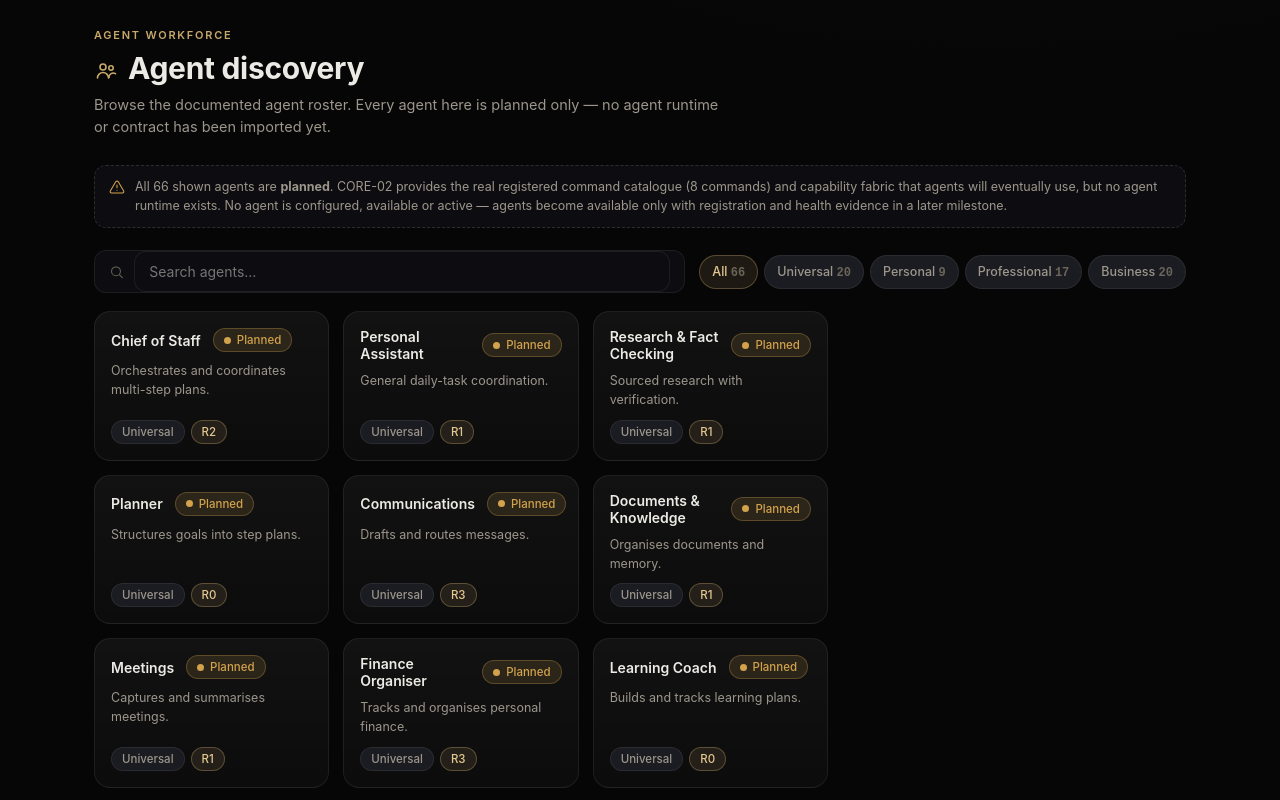
Test: Agent Workforce › filters by category
Click the button "Personal 9": [914, 272] box [870, 255, 959, 289]
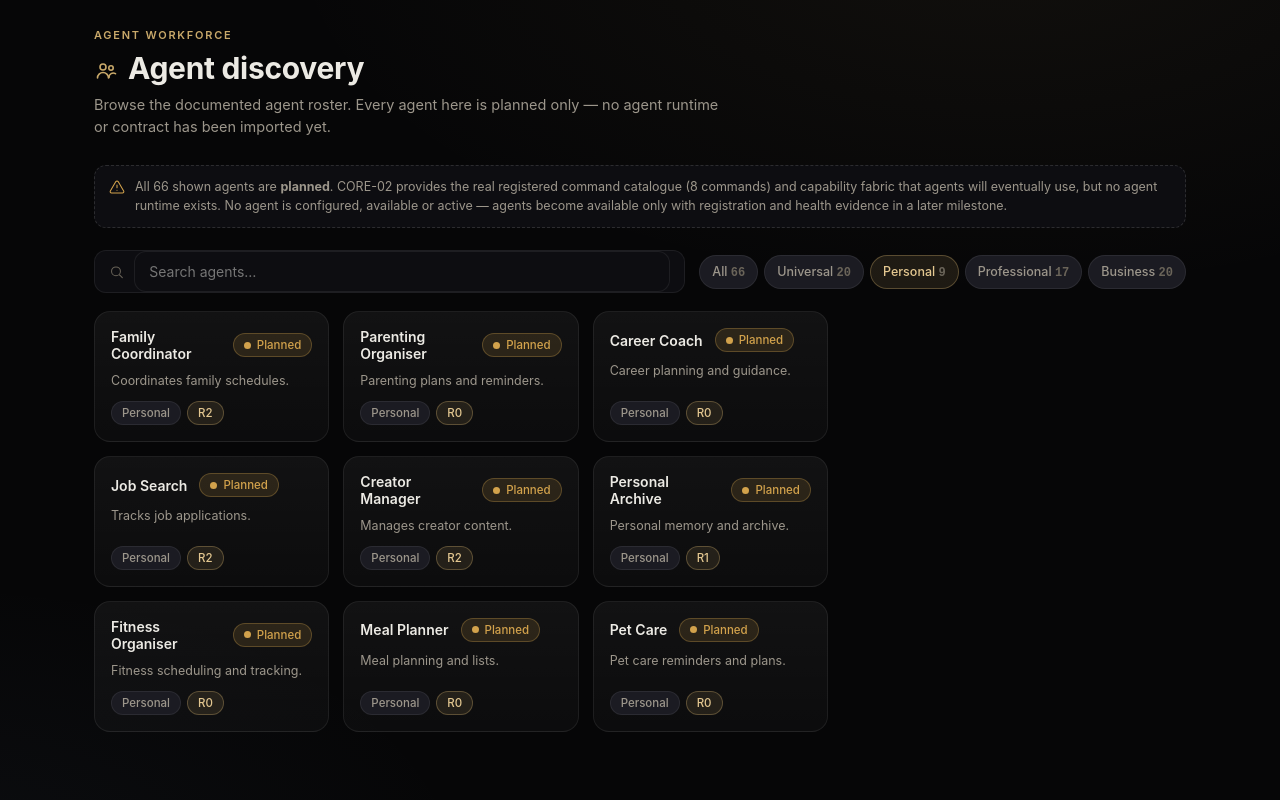
Check: the text "Family Coordinator" is shown, box [111, 328, 192, 362]
Check: the button "Chief of Staff" is gone
